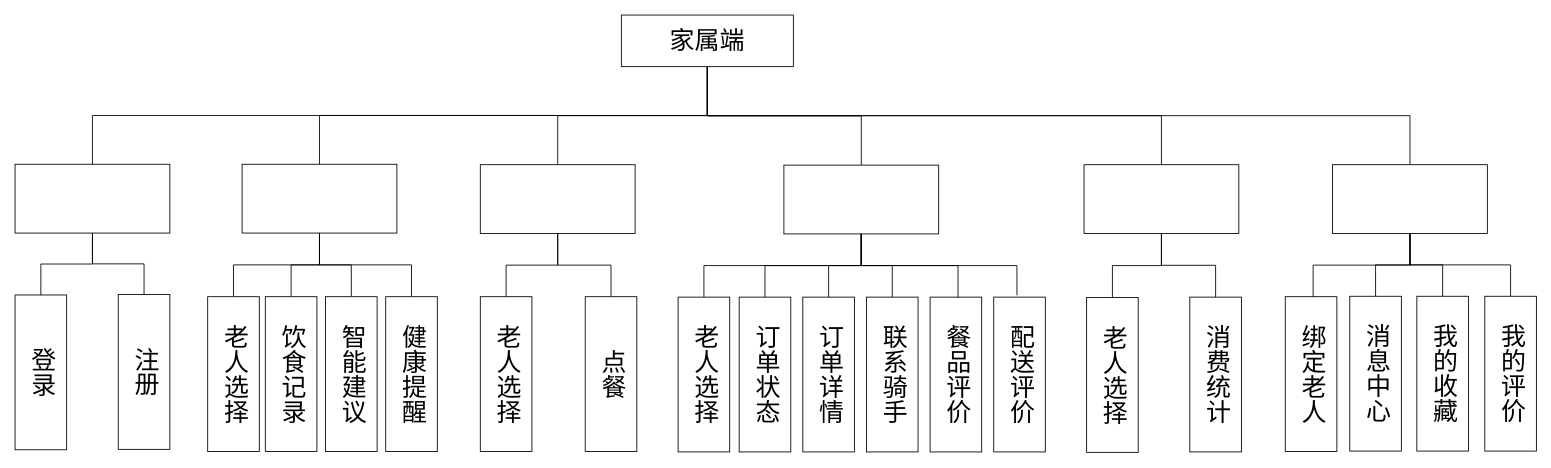
Image size: 1551x468. Some labels were removed from this diagram. The shapes that lost their labels are listed below. From the top down, each one's centre as x and y in pixels, then its label:
At (x=92, y=198): "登录注册页".
At (x=319, y=198): "首页".
At (x=557, y=198): "订餐页".
At (x=861, y=199): "订单页".
At (x=1161, y=198): "消费页".
At (x=1409, y=198): "我的页".
